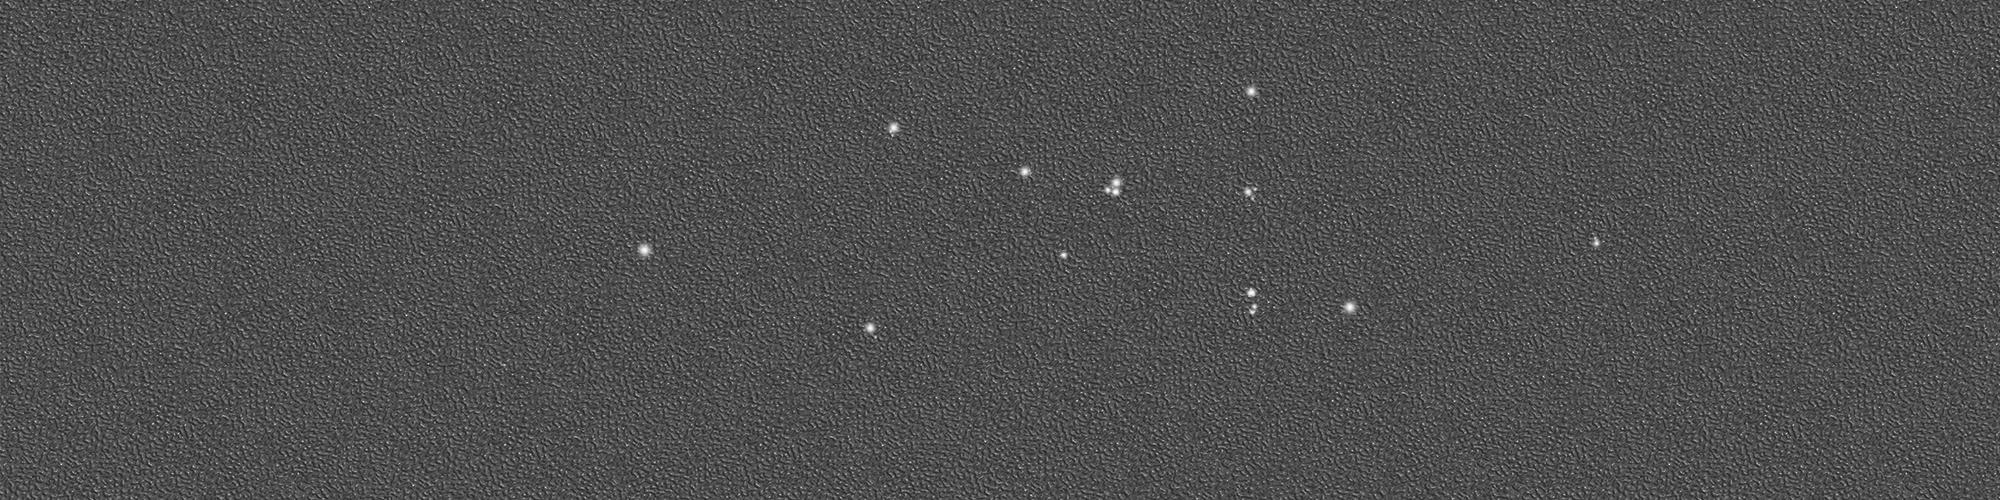Particles: (636, 240, 656, 261), (883, 120, 902, 140), (1014, 163, 1034, 182), (861, 319, 880, 338), (1339, 300, 1357, 316), (1244, 283, 1261, 298), (1244, 84, 1258, 99), (1588, 237, 1605, 249), (1245, 300, 1261, 310), (1057, 250, 1071, 261), (1108, 179, 1124, 189), (1240, 187, 1255, 196), (1111, 187, 1122, 199), (1103, 184, 1114, 195), (1250, 307, 1258, 316)
